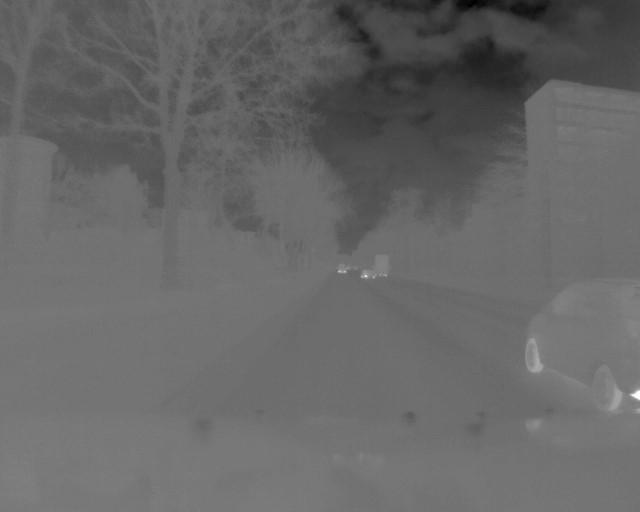car: (519, 272, 640, 413)
